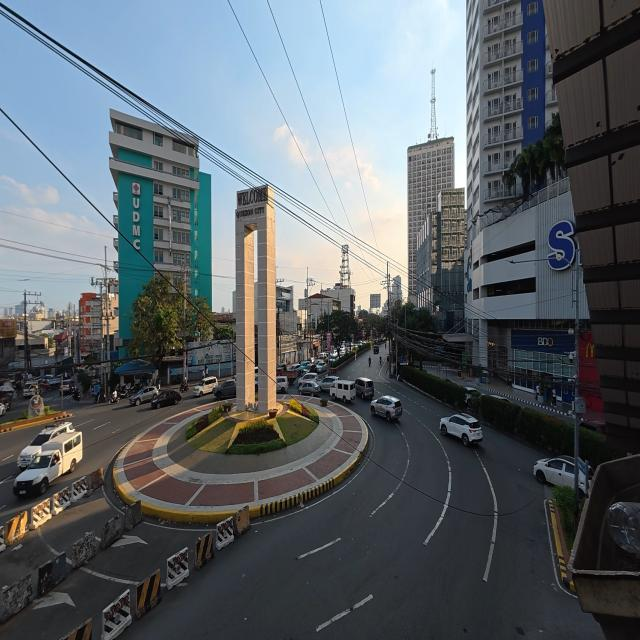car: (440, 414, 482, 445), (534, 456, 574, 487), (370, 396, 402, 422), (151, 390, 181, 409), (130, 386, 159, 405), (214, 379, 236, 401), (580, 420, 605, 434), (299, 381, 321, 396), (319, 376, 339, 391), (464, 387, 481, 402), (299, 373, 318, 385), (276, 376, 288, 393), (60, 381, 74, 395), (490, 394, 511, 403), (315, 360, 327, 373), (306, 362, 317, 372), (288, 363, 301, 371), (301, 361, 311, 370), (0, 403, 6, 415), (319, 352, 328, 360), (331, 350, 338, 359), (373, 345, 379, 355), (340, 348, 346, 357), (255, 373, 258, 391), (386, 354, 389, 361)
motorcycle: (95, 392, 105, 403), (180, 381, 188, 392), (72, 389, 79, 401), (109, 396, 119, 404), (380, 356, 382, 365), (369, 358, 371, 366)
vans: (14, 432, 82, 496), (18, 422, 74, 471), (330, 380, 355, 402), (194, 376, 217, 397), (355, 378, 374, 399), (23, 382, 37, 397)
